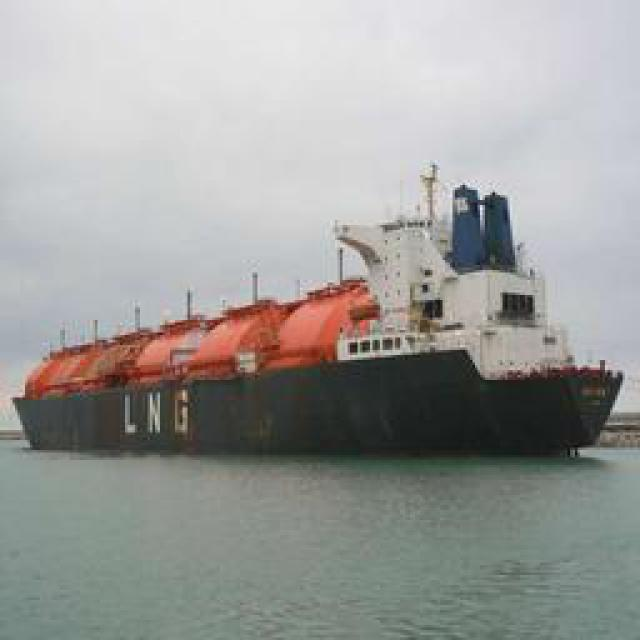Ship: (35, 165, 620, 450)
